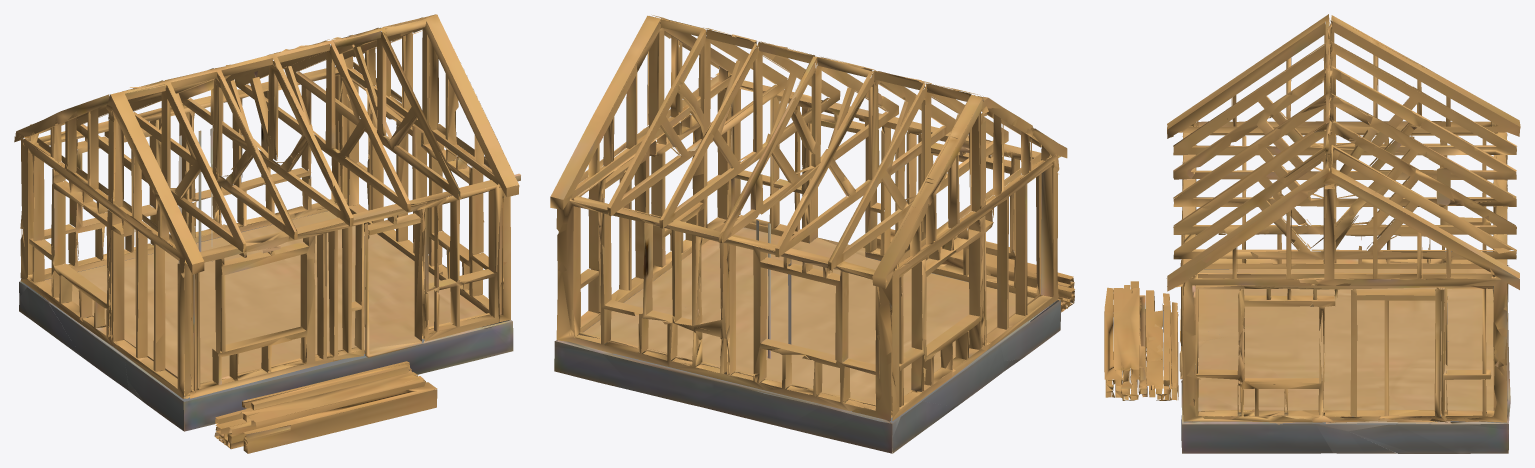
The model's file is frameAlt-lite.glb.
3 views of the same model, side by side, from view 1: azimuth 30°, elevation 25°; view 2: azimuth 150°, elevation 25°; view 3: azimuth 270°, elevation 25° (orthographic). The views are drawn at different scales.
Visible parts, largest first — view 1: world; view 2: world; view 3: world.
Part boxes in pixels (x1,y1,x2,y2): world: (14, 14, 520, 453); world: (550, 15, 1074, 453); world: (1104, 14, 1520, 453).
Size of the model in its own units: 0.9515 by 0.7541 by 1.
1 material, 1 textured.
